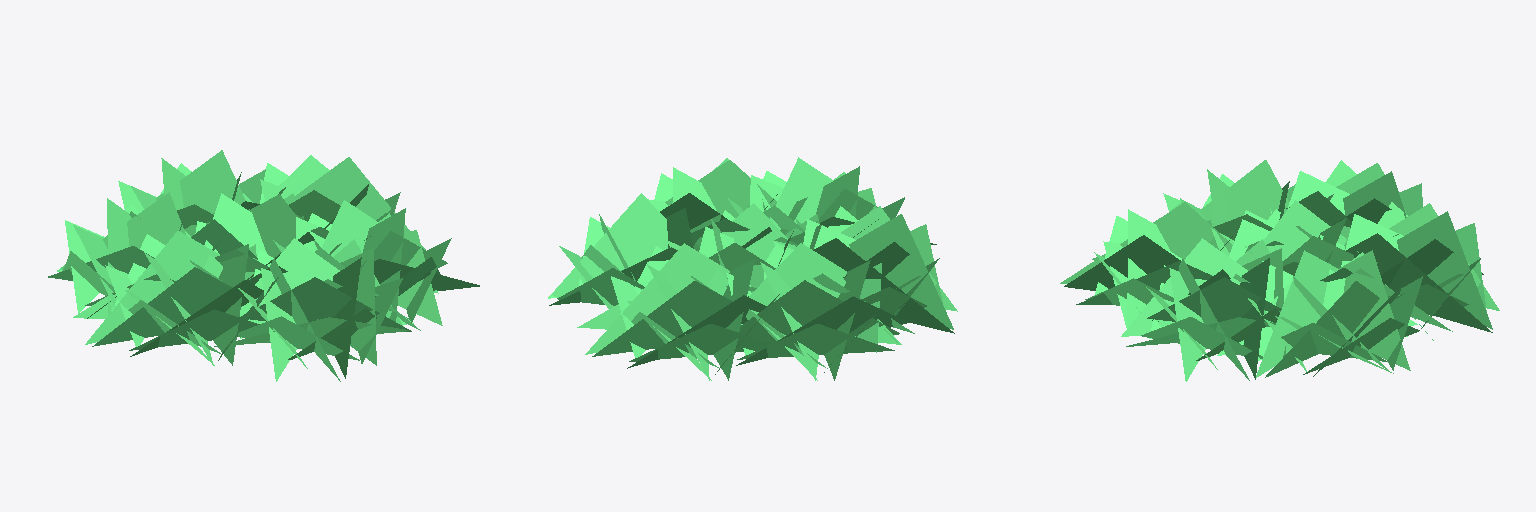
File: grass.obj
3 views of the same model, side by side, from view 1: azimuth 30°, elevation 25°; view 2: azimuth 150°, elevation 25°; view 3: azimuth 270°, elevation 25° (orthographic).
Parts seen in each view (by area): view 1: grass_002.001_grass_002.006; view 2: grass_002.001_grass_002.006; view 3: grass_002.001_grass_002.006.
Boxes of the visible parts, x1,y1,x2,y2 form: grass_002.001_grass_002.006: [48, 150, 479, 381]; grass_002.001_grass_002.006: [548, 157, 957, 380]; grass_002.001_grass_002.006: [1060, 160, 1499, 381].
Bounding box in the file's own units: 5.82 × 1.23 × 6.18.